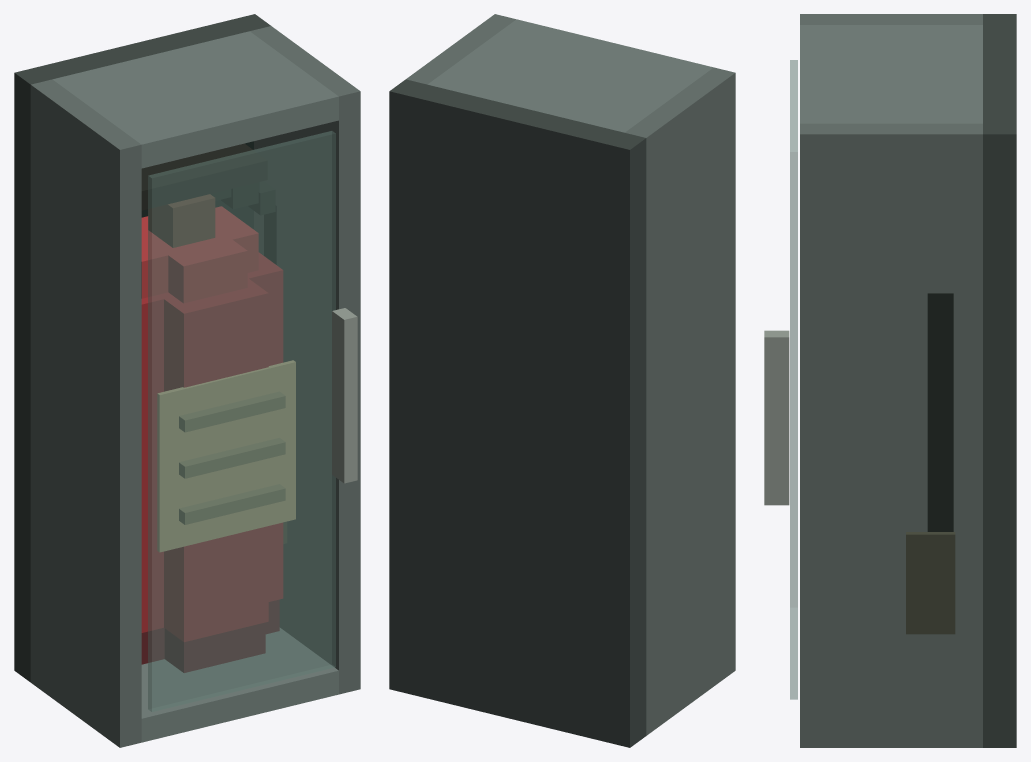
Rendered from CMU3DHybrisaExtinguisherCabinet.glb.
3 views of the same model, side by side, from view 1: azimuth 30°, elevation 25°; view 2: azimuth 150°, elevation 25°; view 3: azimuth 270°, elevation 25° (orthographic). The views are drawn at different scales.
Parts seen in each view (by area): view 1: cabinet stile (×2), closed glass panel, cabinet horizontal frame (×2), red pressure cylinder (×3), cream instructions, cabinet back, cylinder shoulder (×3), label instruction line (×3), squeeze handle, door handle, cylinder foot (×2), upper neck (+2 smaller); view 2: cabinet back, cabinet stile (×2), cabinet horizontal frame; view 3: cabinet stile (×2), cabinet back, cabinet horizontal frame, hanging hose (×4), hose nozzle, closed glass panel, door handle.
Part boxes in pixels (x1,y1,x2,y2): cabinet stile (×2): (30,26,360,747); closed glass panel: (148,131,335,711); cabinet horizontal frame (×2): (53,31,338,742); red pressure cylinder (×3): (141,252,283,641); cream instructions: (157,360,295,552); cabinet back: (14,14,270,682); cylinder shoulder (×3): (141,206,258,303); label instruction line (×3): (179,391,285,524); squeeze handle: (141,143,267,210); door handle: (332,308,357,483); cylinder foot (×2): (141,622,265,672); upper neck: (148,194,215,247); cabinet back: (389,79,646,747); cabinet stile (×2): (406,14,735,735); cabinet horizontal frame: (428,19,713,132); cabinet stile (×2): (800,14,982,747); cabinet back: (983,14,1016,747); cabinet horizontal frame: (800,25,982,123); hanging hose (×4): (927,293,953,523); hose nozzle: (906,532,955,634); closed glass panel: (790,60,797,699); door handle: (764,330,789,505).
Size of the model in its own units: 0.4087 by 0.95 by 0.354.
